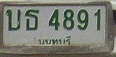txt19: (24, 9, 39, 32)
txt21: (5, 9, 22, 31)
